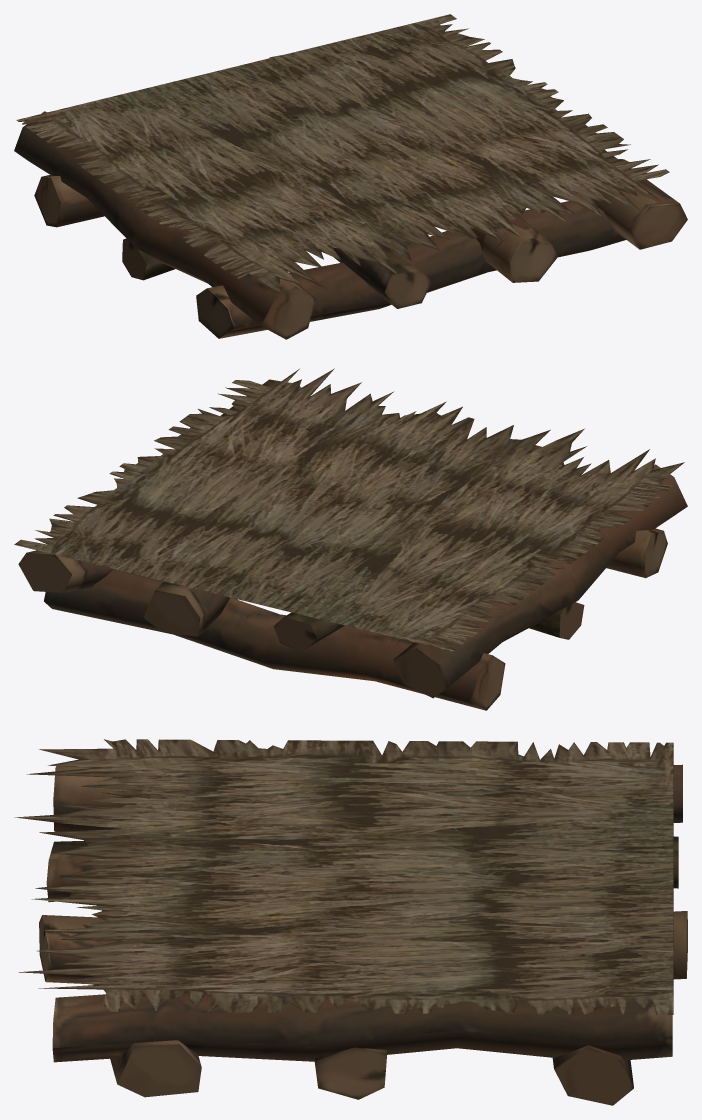
Rendered from mf_roof011.FBX.
3 renders of one model, top to bottom at view 1: azimuth 30°, elevation 25°; view 2: azimuth 150°, elevation 25°; view 3: azimuth 270°, elevation 25°, orthographic. The views are drawn at different scales.
Visible parts, largest first — view 1: mf_roof011; view 2: mf_roof011; view 3: mf_roof011.
Part boxes in pixels (box(x1,y1,x2,y2)): mf_roof011: box(14, 14, 687, 339); mf_roof011: box(14, 368, 687, 710); mf_roof011: box(14, 739, 687, 1105).
Bounding box in the file's own units: 2.02 × 0.384 × 2.09.
1 material, 1 textured.
